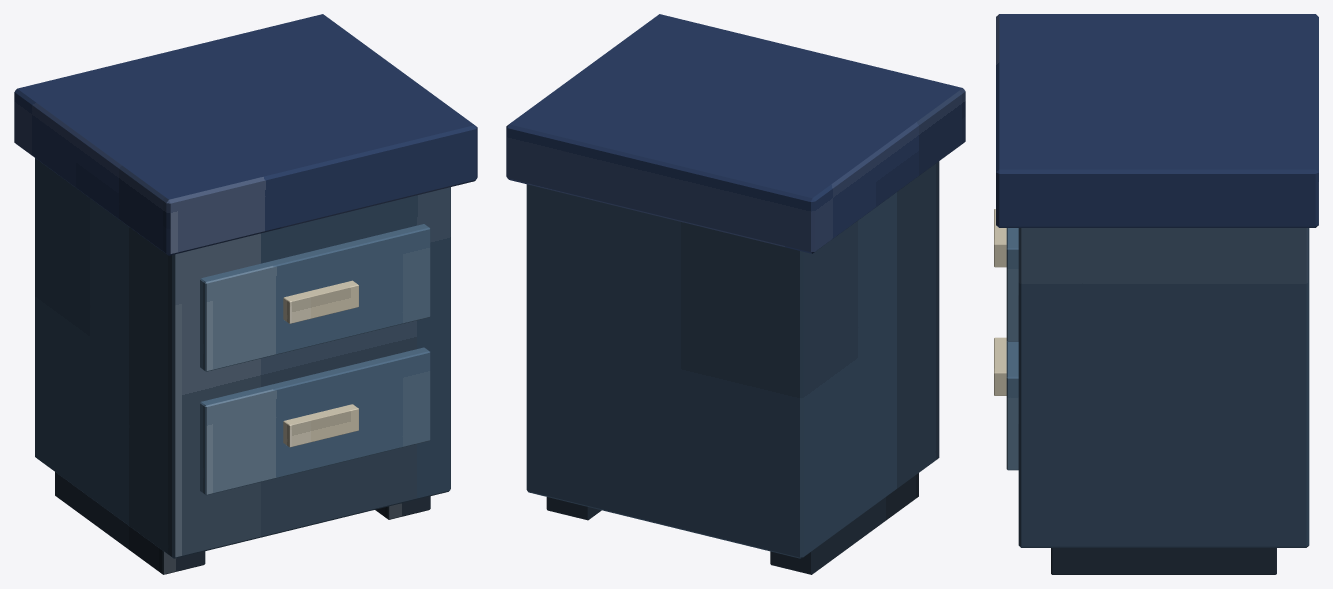
The model's file is bedroom_nightstand_navy.glb.
The picture shows the model from 3 angles, left to right: view 1: azimuth 30°, elevation 25°; view 2: azimuth 150°, elevation 25°; view 3: azimuth 270°, elevation 25°; orthographic projection. The views are drawn at different scales.
Parts seen in each view (by area): view 1: NightstandBody, NightstandTop, NightstandDrawer_2, NightstandDrawer_1, NightstandFoot_L, NightstandHandle_2, NightstandHandle_1, NightstandFoot_R; view 2: NightstandBody, NightstandTop, NightstandFoot_L, NightstandFoot_R; view 3: NightstandBody, NightstandTop, NightstandFoot_R, NightstandDrawer_2, NightstandDrawer_1, NightstandHandle_2, NightstandHandle_1.
Boxes of the visible parts, x1=… form: NightstandBody: x1=35, y1=158, x2=450, y2=558; NightstandTop: x1=14, y1=14, x2=477, y2=255; NightstandDrawer_2: x1=200, y1=347, x2=430, y2=495; NightstandDrawer_1: x1=200, y1=224, x2=430, y2=371; NightstandFoot_L: x1=55, y1=472, x2=205, y2=574; NightstandHandle_2: x1=283, y1=404, x2=358, y2=447; NightstandHandle_1: x1=283, y1=280, x2=358, y2=323; NightstandFoot_R: x1=375, y1=496, x2=430, y2=519; NightstandBody: x1=526, y1=161, x2=939, y2=558; NightstandTop: x1=506, y1=14, x2=965, y2=253; NightstandFoot_L: x1=770, y1=473, x2=918, y2=574; NightstandFoot_R: x1=546, y1=497, x2=601, y2=520; NightstandBody: x1=1018, y1=228, x2=1309, y2=547; NightstandTop: x1=996, y1=14, x2=1318, y2=227; NightstandFoot_R: x1=1051, y1=548, x2=1276, y2=574; NightstandDrawer_2: x1=1006, y1=341, x2=1018, y2=470; NightstandDrawer_1: x1=1006, y1=228, x2=1018, y2=341; NightstandHandle_2: x1=994, y1=337, x2=1006, y2=395; NightstandHandle_1: x1=994, y1=209, x2=1006, y2=267.
Size of the model in its own units: 0.58 by 0.71 by 0.503.
1 material, 1 textured.
